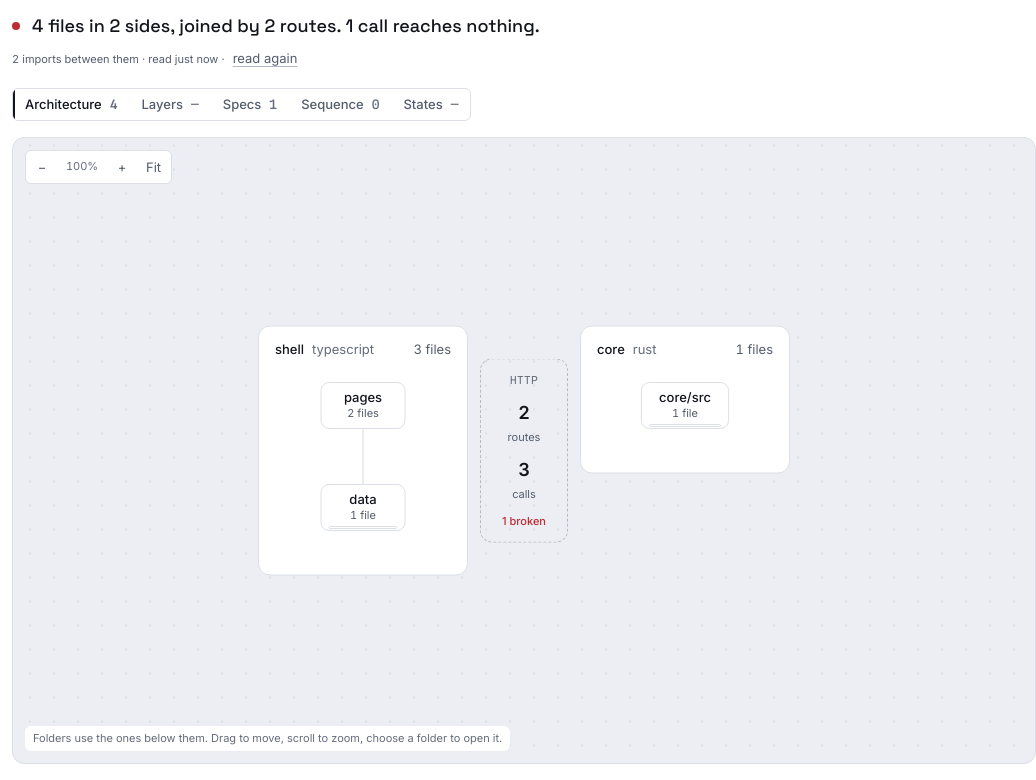
the architecture › puts the seam between the sides and opens what broke on it
The width and height of the screenshot is (1036, 780).
Click the button "HTTP 2 routes 3 calls 1 broken": (524,450) [480, 358, 568, 542]
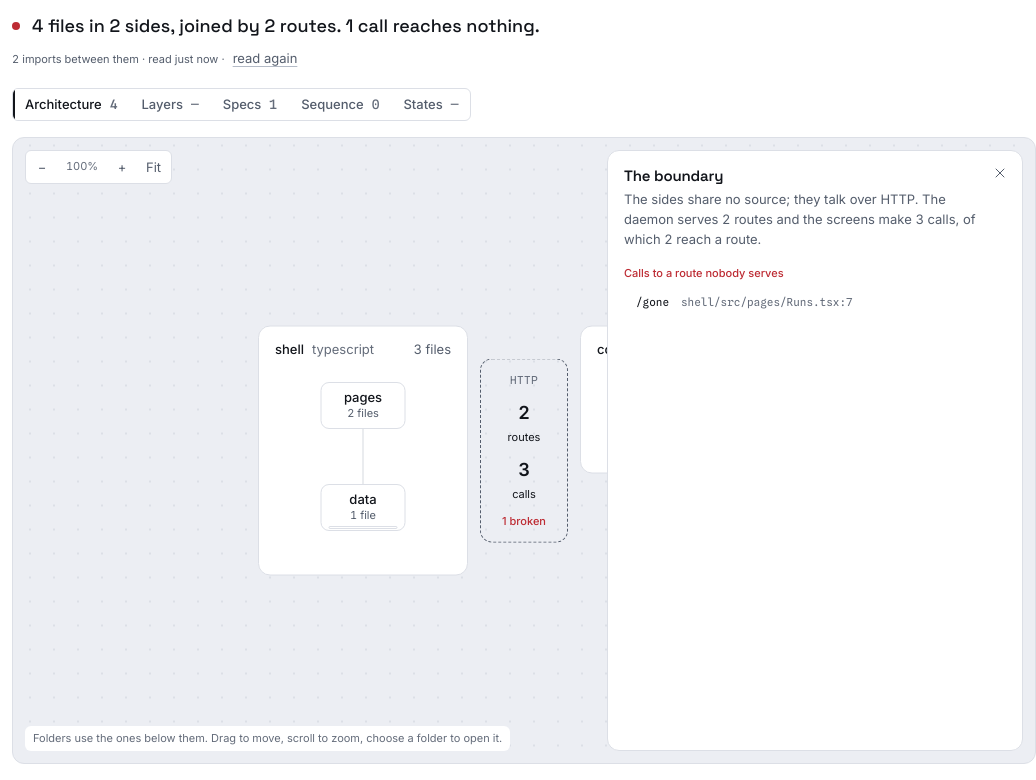
Expected: the text "1 call reaches nothing" is shown, [341, 14, 540, 37]
Now the text "Calls to a route nobody serves" is shown, box [624, 266, 784, 280]
Now the text "/gone" is shown, box [636, 294, 669, 311]
